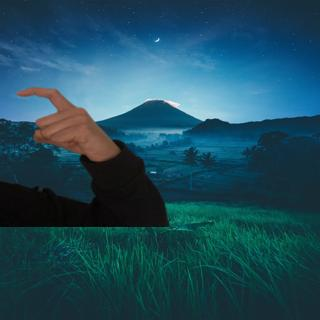WHY: (10, 81, 119, 162)
